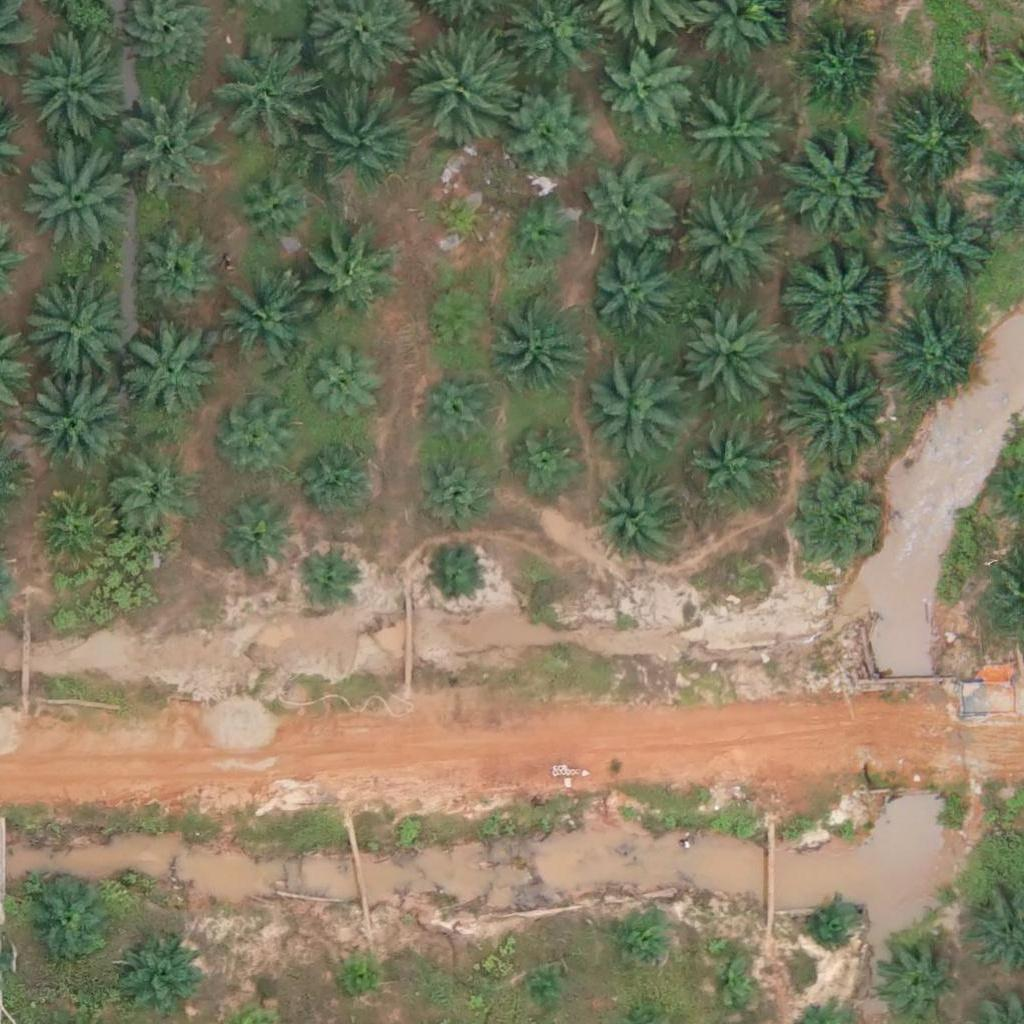Kelapa_Sawit: (15, 139, 128, 253), (880, 184, 993, 297), (781, 128, 894, 241), (785, 239, 898, 352), (20, 366, 133, 479), (12, 270, 125, 383), (301, 74, 413, 188), (18, 35, 130, 149), (784, 351, 896, 464), (402, 29, 514, 142), (112, 80, 224, 193), (879, 305, 979, 406), (787, 478, 887, 579), (684, 85, 784, 186), (679, 197, 779, 298), (675, 305, 775, 406), (503, 78, 603, 179), (295, 226, 395, 327), (209, 275, 309, 376), (209, 47, 309, 148), (119, 323, 219, 424), (494, 292, 594, 393), (586, 357, 686, 457), (890, 102, 978, 190), (583, 165, 671, 253), (408, 448, 496, 536), (27, 486, 115, 574), (230, 164, 318, 252), (586, 252, 673, 341), (26, 876, 113, 964), (793, 21, 880, 109), (693, 423, 780, 511), (595, 472, 682, 560), (601, 45, 688, 133), (418, 367, 505, 455), (135, 233, 222, 321), (112, 453, 199, 541), (122, 944, 197, 1020), (301, 350, 376, 426), (303, 438, 378, 514), (502, 198, 577, 274), (421, 285, 496, 361), (509, 420, 584, 495), (221, 405, 296, 480), (219, 505, 294, 580), (292, 546, 355, 609), (425, 542, 487, 605), (428, 186, 490, 249), (804, 896, 854, 946), (707, 959, 757, 1009), (615, 913, 665, 963), (524, 974, 562, 1012), (338, 958, 375, 996)
